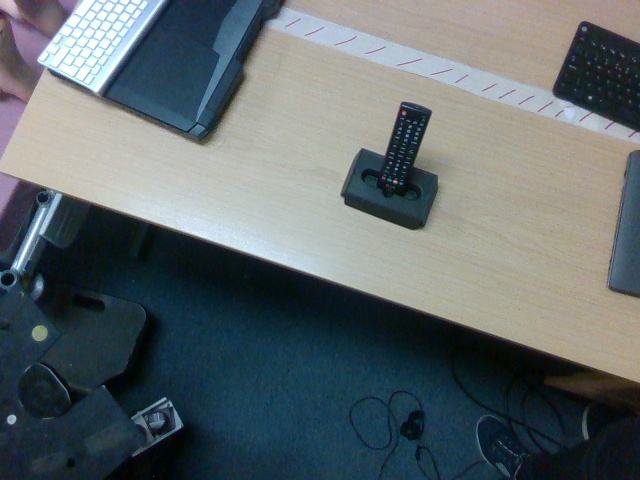remote: (378, 101, 432, 191)
